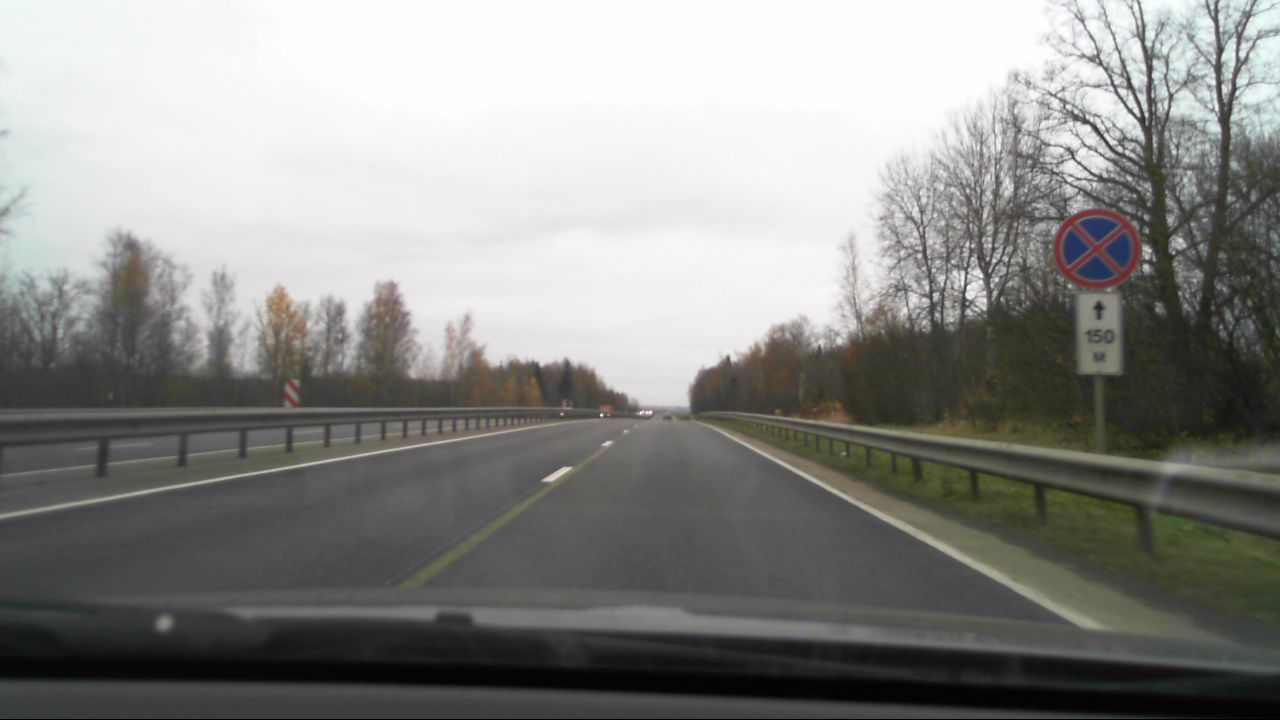No Parking: (1054, 210, 1141, 291)
